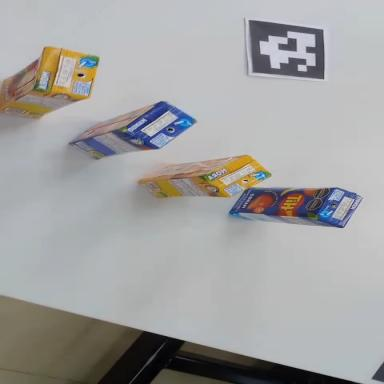HIT-MANGO: (66, 93, 201, 175), (230, 188, 362, 228)
HIT-MORA: (0, 39, 99, 130), (139, 155, 271, 199)
cara_F: (66, 101, 165, 144), (0, 47, 60, 111), (229, 187, 335, 218), (138, 155, 247, 180)
